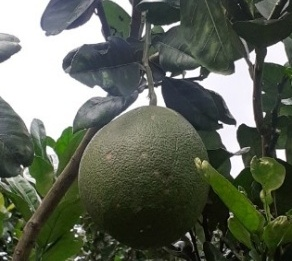Buoi: (78, 102, 211, 245)
